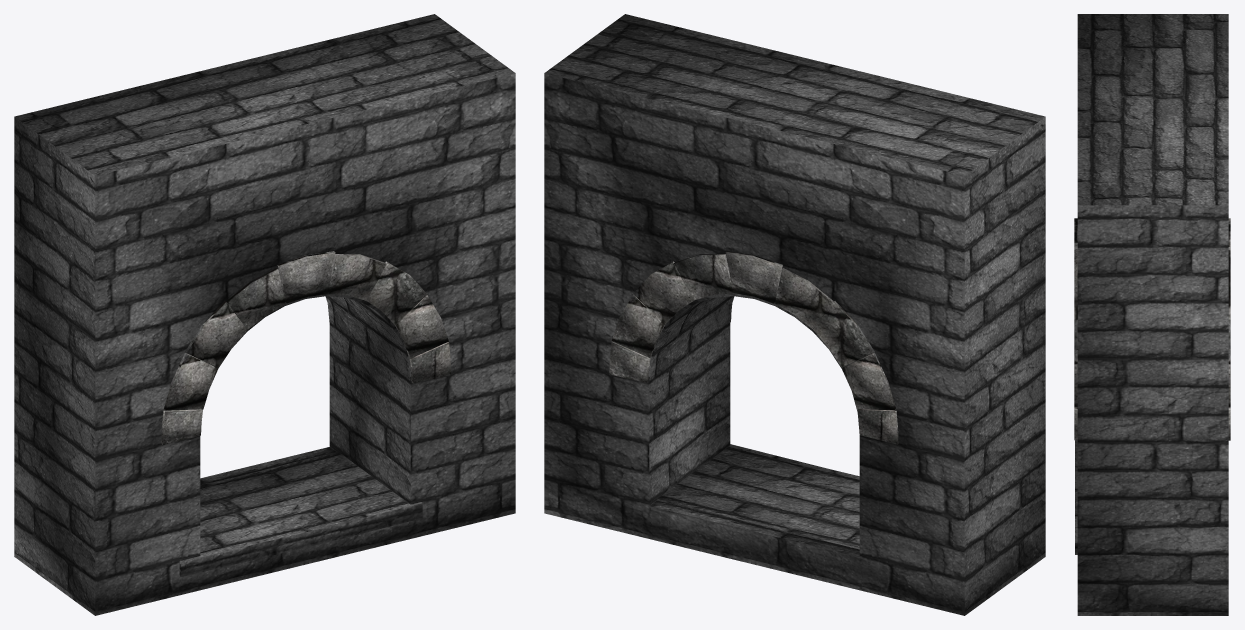
Rendered from stone wall fireplace.glb.
The picture shows the model from 3 angles, left to right: view 1: azimuth 30°, elevation 25°; view 2: azimuth 150°, elevation 25°; view 3: azimuth 270°, elevation 25°; orthographic projection. The views are drawn at different scales.
Parts seen in each view (by area): view 1: Fireplace Large, 2 Sided; view 2: Fireplace Large, 2 Sided; view 3: Fireplace Large, 2 Sided.
Part boxes in pixels (x1,y1,x2,y2): Fireplace Large, 2 Sided: (14, 14, 515, 615); Fireplace Large, 2 Sided: (544, 14, 1045, 615); Fireplace Large, 2 Sided: (1074, 14, 1230, 615).
Size of the model in its own units: 2.74 by 2.74 by 0.9451.
Materials: 2 (2 with a texture image).
